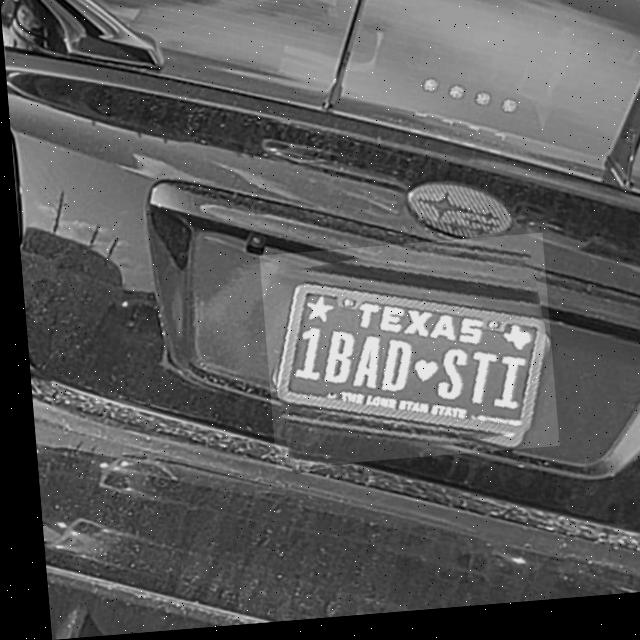LicensePlate: (255, 242, 551, 473)
